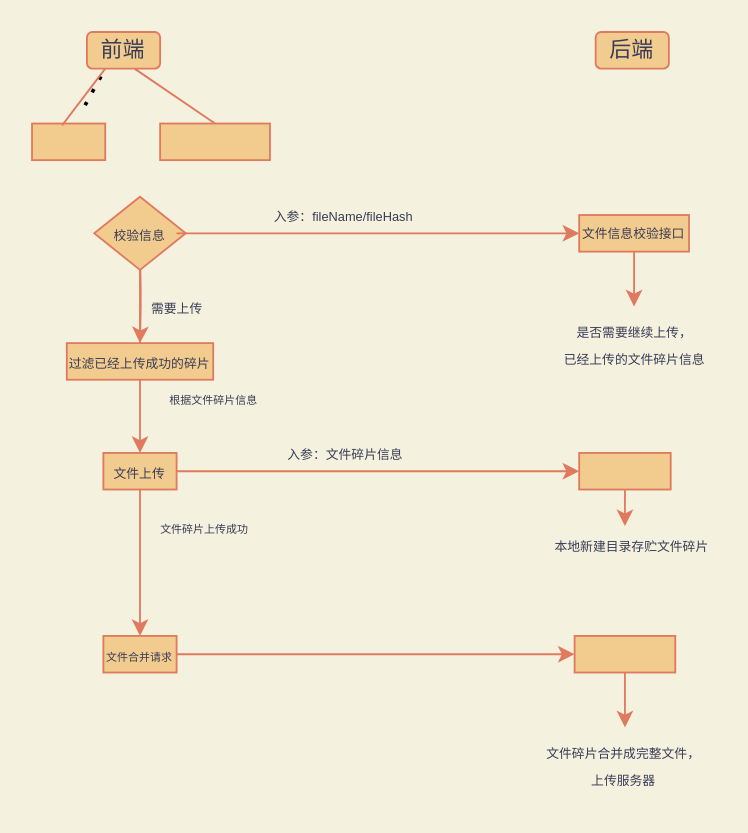
This 748x833 diagram has some shape labels left out. The shapes that lost their labels are listed below. From the top down, each one's box as (x1, y1, x2, y2) in pixels, then its label:
(30, 122, 105, 160): 大文件切片
(158, 122, 270, 160): 生成文件唯一hash
(577, 451, 671, 490): 文件上传接口
(573, 634, 675, 673): 文件合并接口
